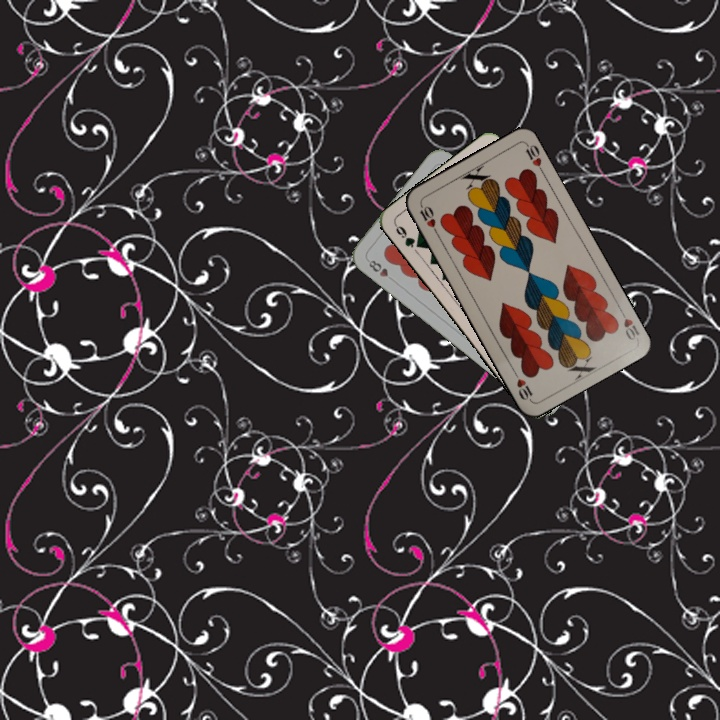G9: (391, 220, 425, 251)
H10: (615, 305, 642, 343), (415, 200, 441, 238)
H8: (364, 256, 398, 285)
